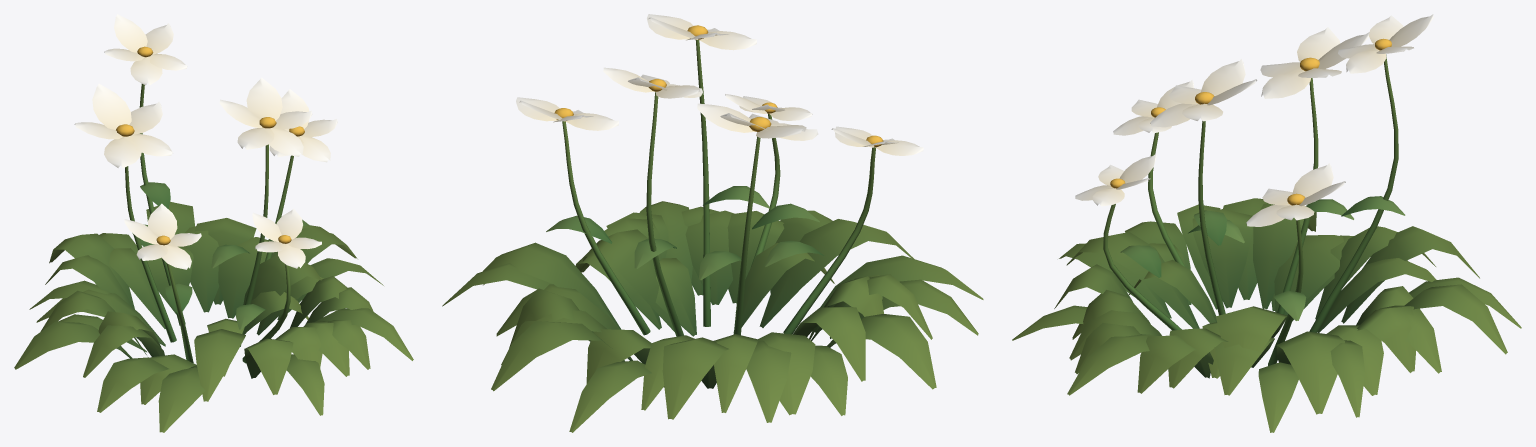
The picture shows the model from 3 angles, left to right: view 1: azimuth 30°, elevation 25°; view 2: azimuth 150°, elevation 25°; view 3: azimuth 270°, elevation 25°; orthographic projection. The views are drawn at different scales.
Visible parts, largest first — view 1: Leaves, Petals_and_pollen, Stems; view 2: Leaves, Petals_and_pollen, Stems; view 3: Leaves, Petals_and_pollen, Stems.
Part boxes in pixels (x1,y1,x2,y2): Leaves: (14,182,413,432); Petals_and_pollen: (74,14,337,269); Stems: (125,84,293,363); Leaves: (442,186,983,432); Petals_and_pollen: (516,14,923,155); Stems: (562,39,875,336); Leaves: (1012,196,1521,432); Petals_and_pollen: (1075,14,1433,226); Stems: (1103,54,1398,365).
Size of the model in its own units: 1.07 by 0.7698 by 1.11.
